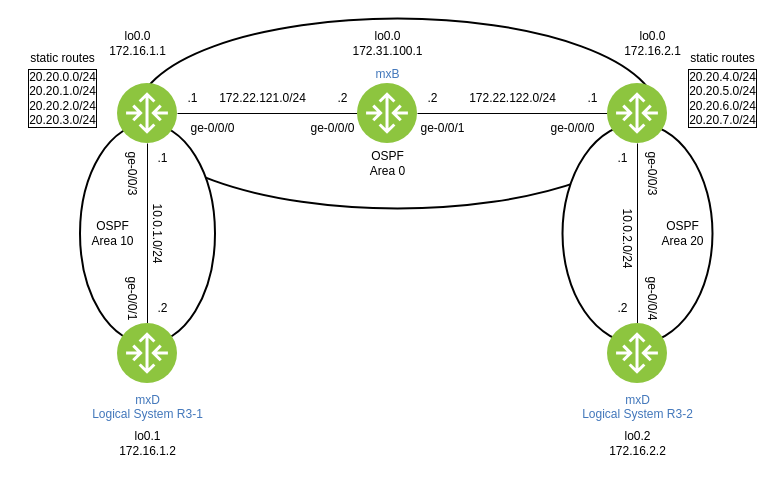
The diagram is 784 pixels wide and 480 high, and some of its shapes have lost their labels. The centre of each missing label's shape, as x and y in pixels:
"mxA" belongs at [147,113].
"mxC" belongs at [637,113].
